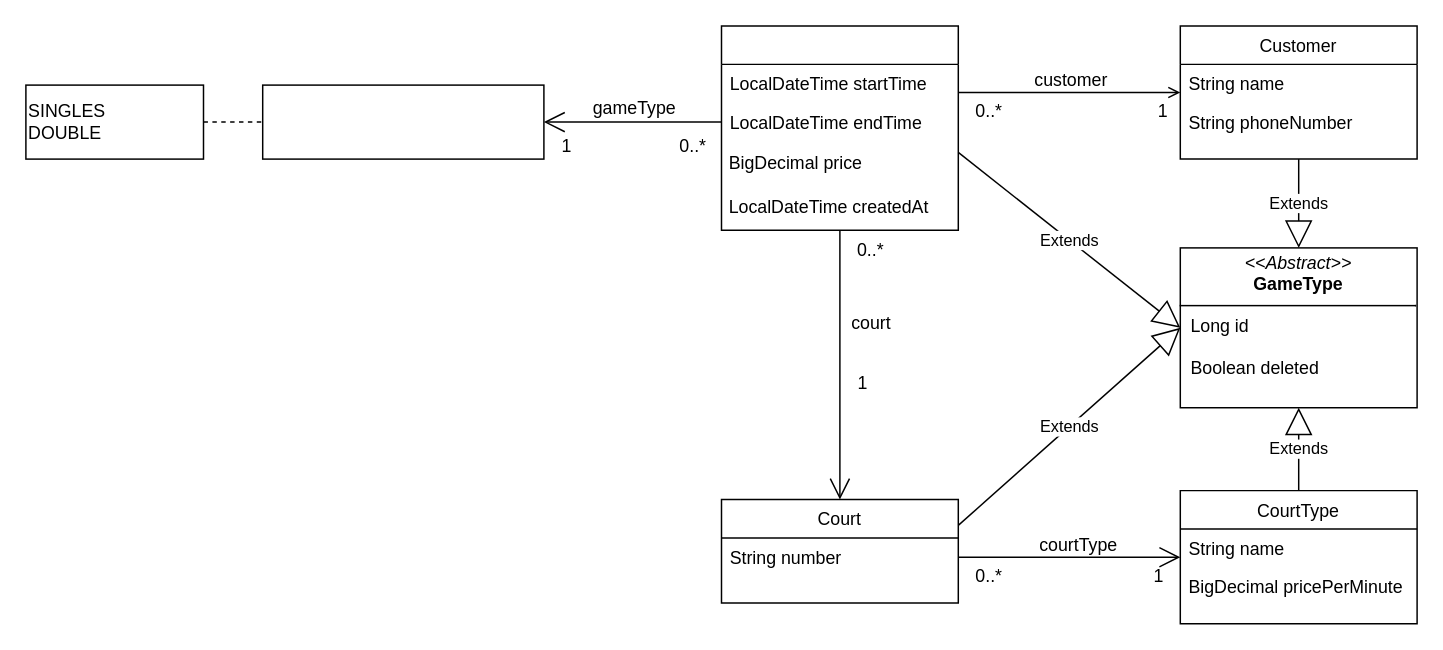
The diagram is 1443 pixels wide and 650 high, and some of its shapes have lost their labels. The box of each missing label's shape, as (x1, y1, x2, y2) in pixels:
<<Enum>> GameType: (261, 84, 544, 159)
Reservation: (720, 24, 958, 230)
